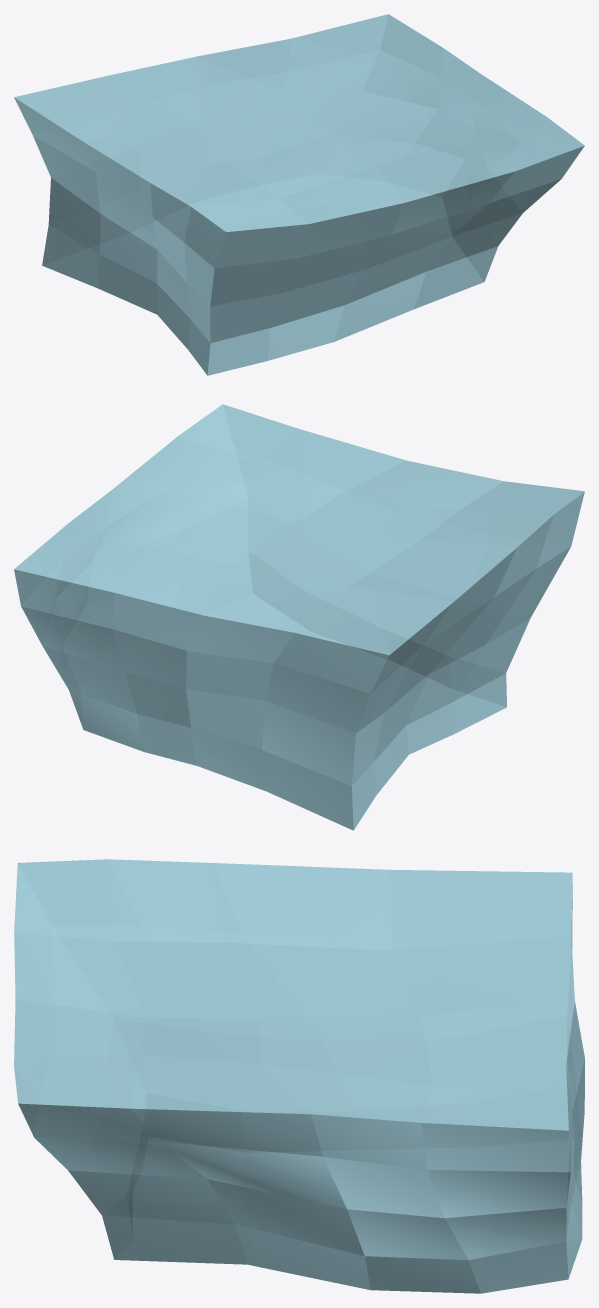
File: icestage.glb
3 views of the same model, one above another, from view 1: azimuth 30°, elevation 25°; view 2: azimuth 150°, elevation 25°; view 3: azimuth 270°, elevation 25° (orthographic). The views are drawn at different scales.
Visible parts, largest first — view 1: 小; view 2: 小; view 3: 小.
Part boxes in pixels (<box>): 小: <box>14,14,584,375</box>; 小: <box>14,404,584,830</box>; 小: <box>14,859,584,1293</box>.
Size of the model in its own units: 2.21 by 1.07 by 2.12.
